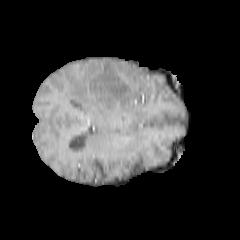glioma: (63, 59, 153, 118)
